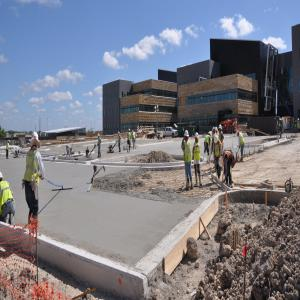red: (72, 147, 73, 152)
white: (32, 132, 39, 148), (185, 131, 190, 141), (195, 133, 200, 143), (220, 157, 225, 167), (215, 136, 219, 145), (1, 173, 4, 183), (219, 126, 223, 132), (237, 131, 240, 138), (213, 128, 216, 134), (216, 128, 219, 134), (209, 133, 212, 138), (99, 134, 101, 139), (119, 132, 121, 136), (129, 129, 131, 133), (298, 119, 300, 123), (9, 141, 11, 144), (133, 132, 135, 135), (297, 121, 298, 124), (296, 122, 297, 124)
